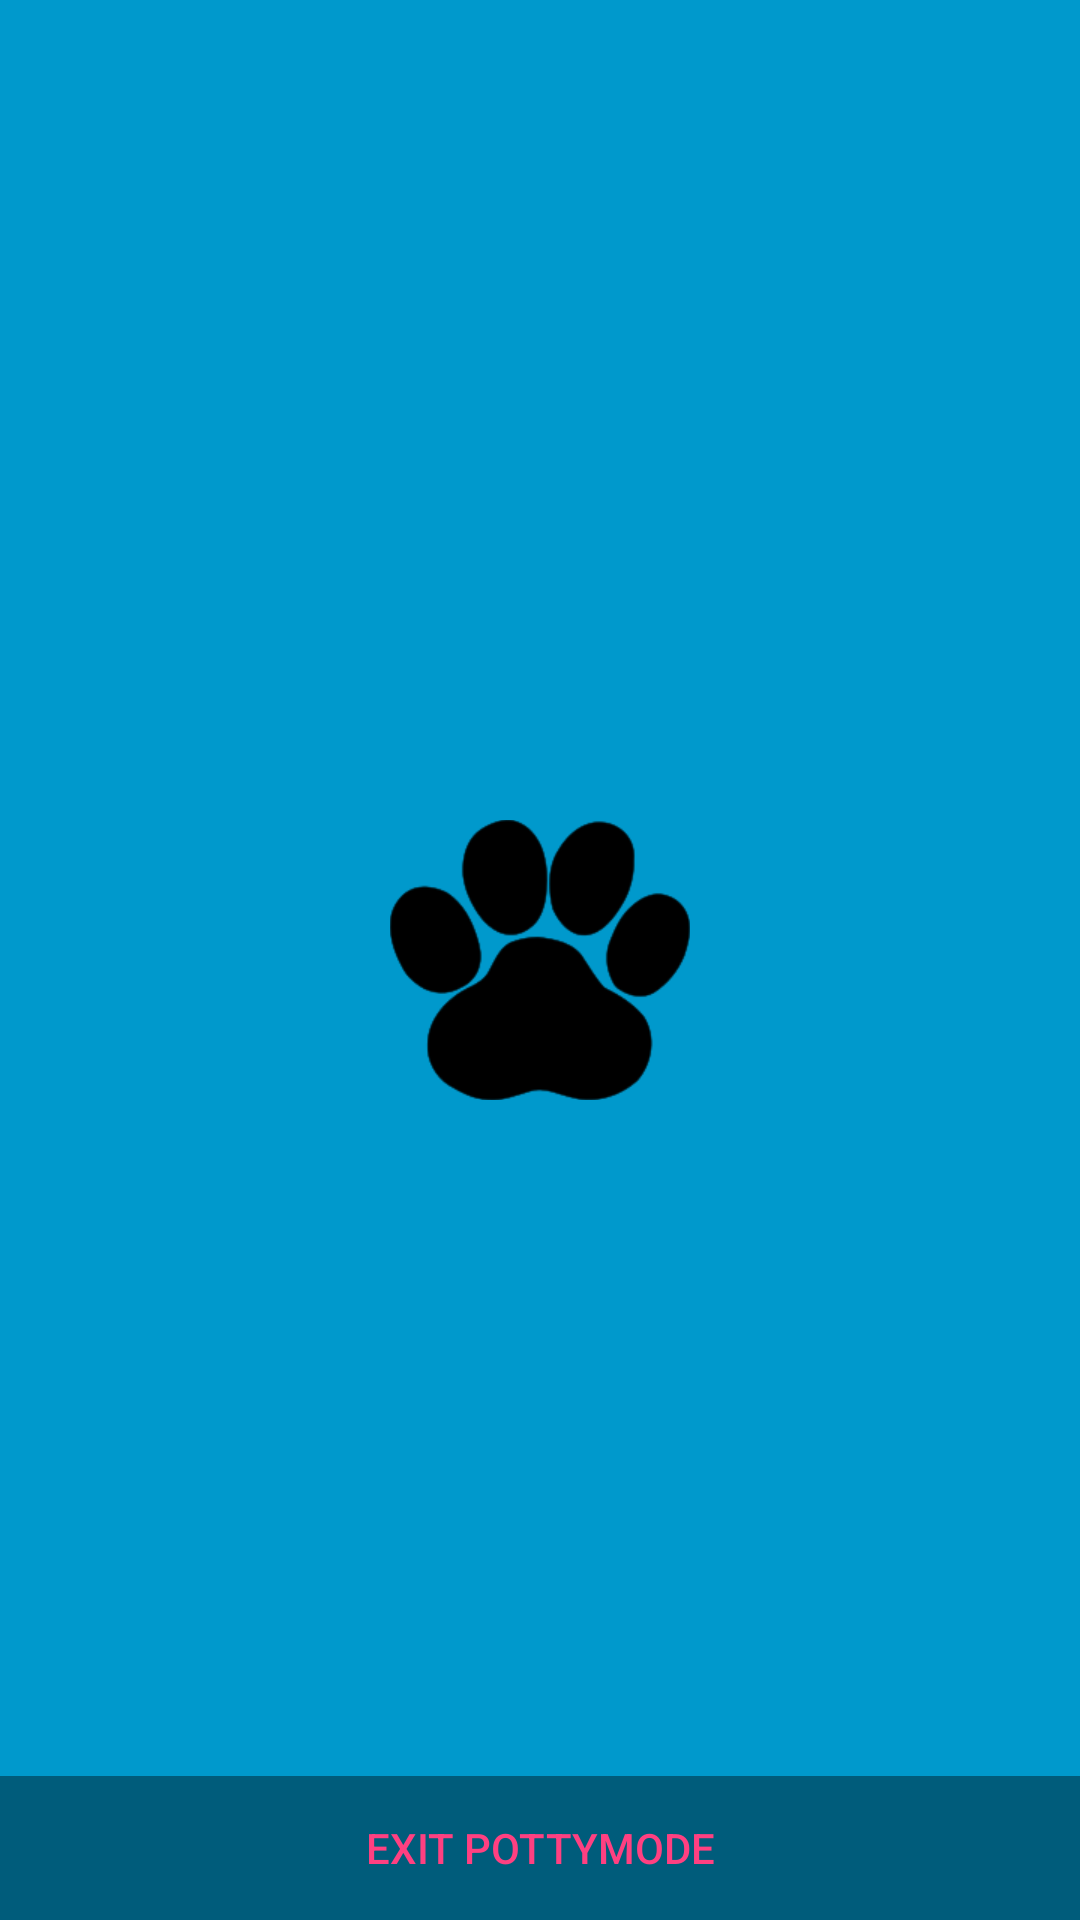

Locate icon controls on the screen. Image size 1080px x 1920px, boxes as (x1, y1, x2, y2).
paw: (390, 820, 690, 1100)
